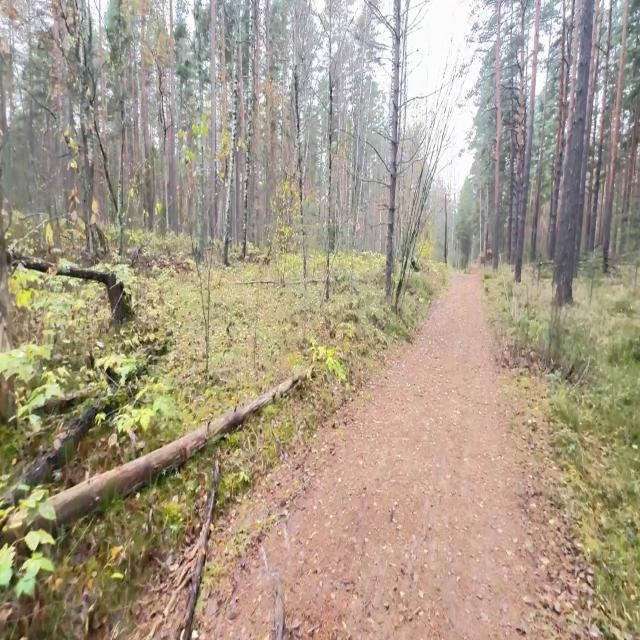bush: (391, 92, 450, 311)
trees: (0, 373, 305, 542), (555, 0, 593, 305), (18, 393, 125, 488), (8, 255, 128, 322), (178, 455, 220, 640), (547, 0, 576, 260), (602, 0, 629, 271), (515, 0, 540, 281), (587, 0, 613, 251), (385, 0, 401, 299), (349, 10, 368, 249), (77, 0, 94, 255), (293, 3, 306, 290), (352, 78, 373, 250), (530, 66, 548, 261), (222, 57, 238, 266), (324, 0, 334, 300), (516, 0, 526, 281), (492, 0, 501, 269), (508, 0, 516, 263), (169, 0, 178, 233), (242, 85, 253, 259), (210, 0, 217, 237), (118, 92, 124, 258), (484, 182, 490, 260), (444, 192, 447, 264)
